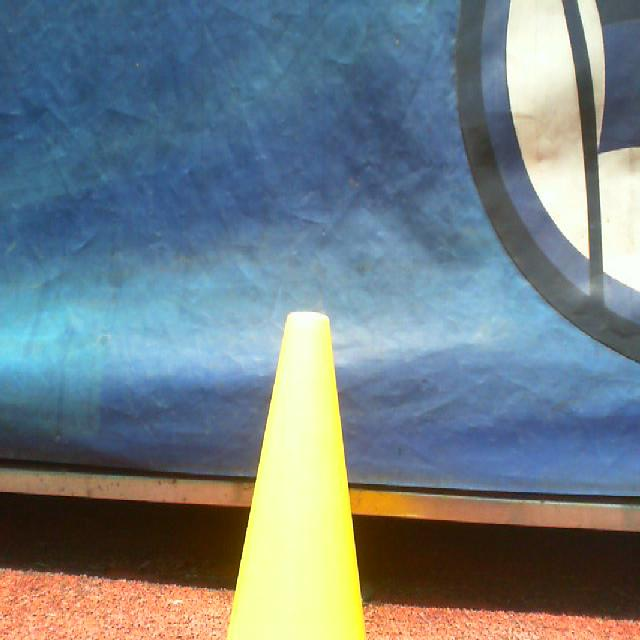cone: (224, 312, 368, 640)
